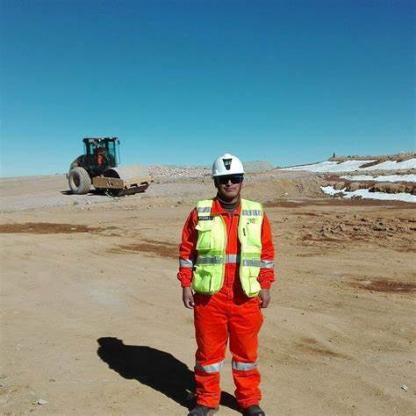person: (171, 140, 292, 415)
